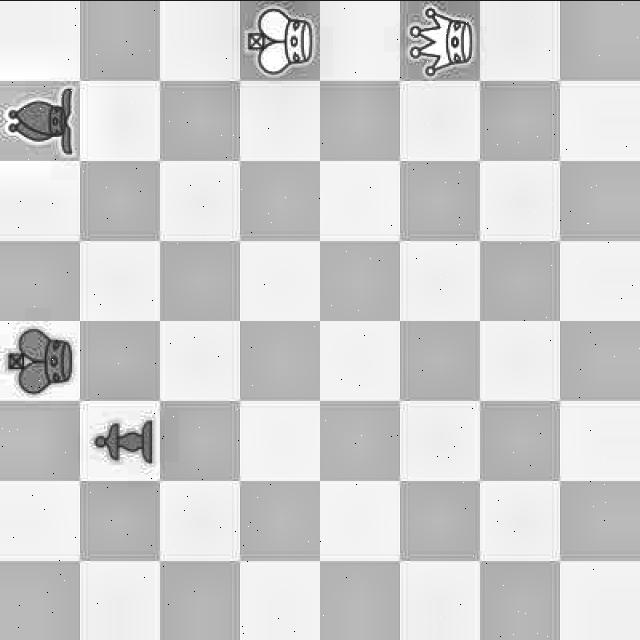black bishop: (0, 79, 78, 162)
black king: (0, 317, 82, 401)
black pawn: (80, 398, 159, 484)
white king: (241, 0, 319, 78)
white queen: (405, 1, 477, 76)
